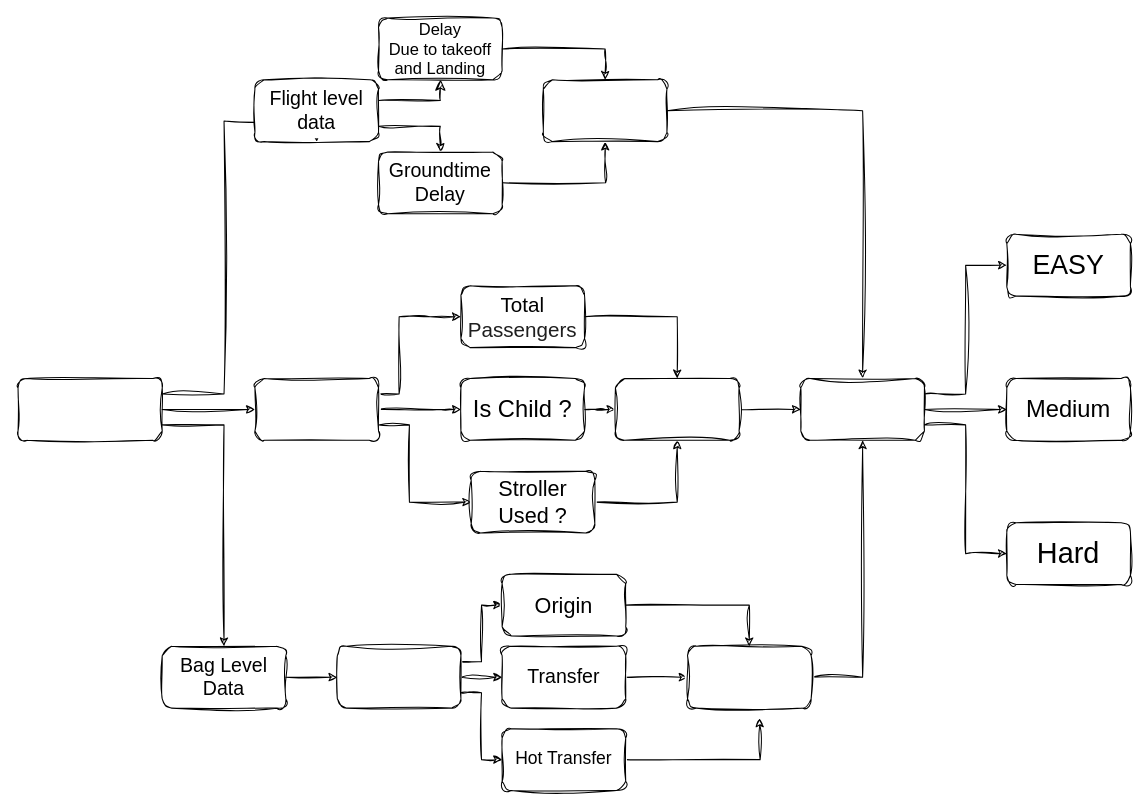
Some shapes in this 1148 by 809 pixel diagram are drawn without their labels. Each missing label, with the centre of its shape:
"Bag Type" goes at point (398, 676).
"Baggage Complexity" goes at point (748, 676).
"Datasets" goes at point (89, 408).
"Delay Complexity" goes at point (604, 110).
"OverAll Flight Complexity" goes at point (862, 408).
"Passenegr Complexity" goes at point (676, 408).
"PNR DATA" goes at point (316, 408).
